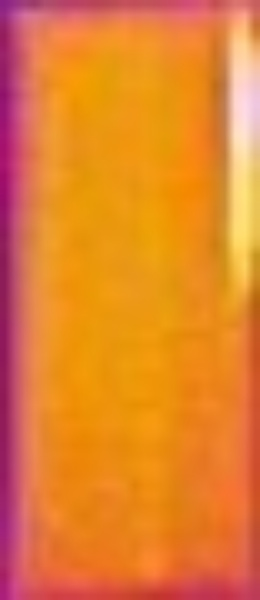Diode: (220, 10, 260, 319)
